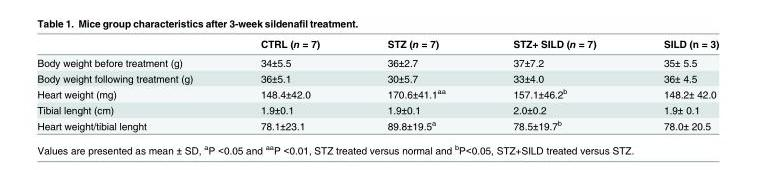table: (36, 37, 718, 131)
table column: (36, 37, 226, 131), (478, 37, 629, 131), (226, 37, 352, 131), (352, 37, 478, 131), (629, 37, 718, 131)
table column header: (36, 37, 718, 53)
table row: (36, 53, 718, 70), (36, 37, 718, 53), (36, 85, 718, 101), (36, 70, 718, 85), (36, 101, 718, 116), (36, 116, 718, 131)
